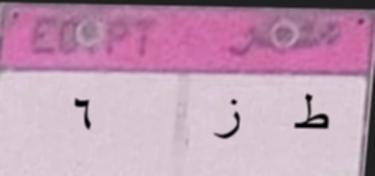6: (68, 93, 100, 138)
Taa: (282, 88, 334, 141)
zay: (203, 90, 253, 153)
